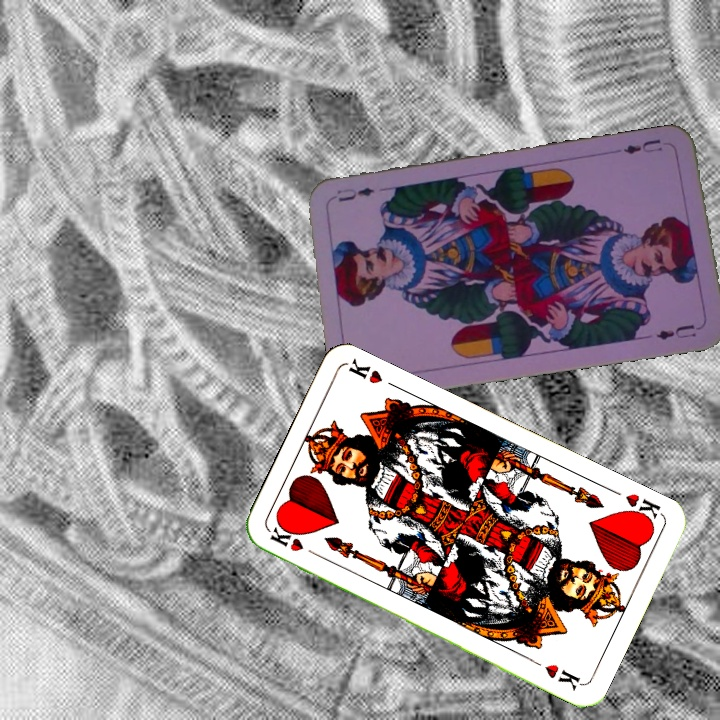EU: (619, 135, 665, 157)
HK: (266, 523, 322, 560), (620, 489, 664, 528)
